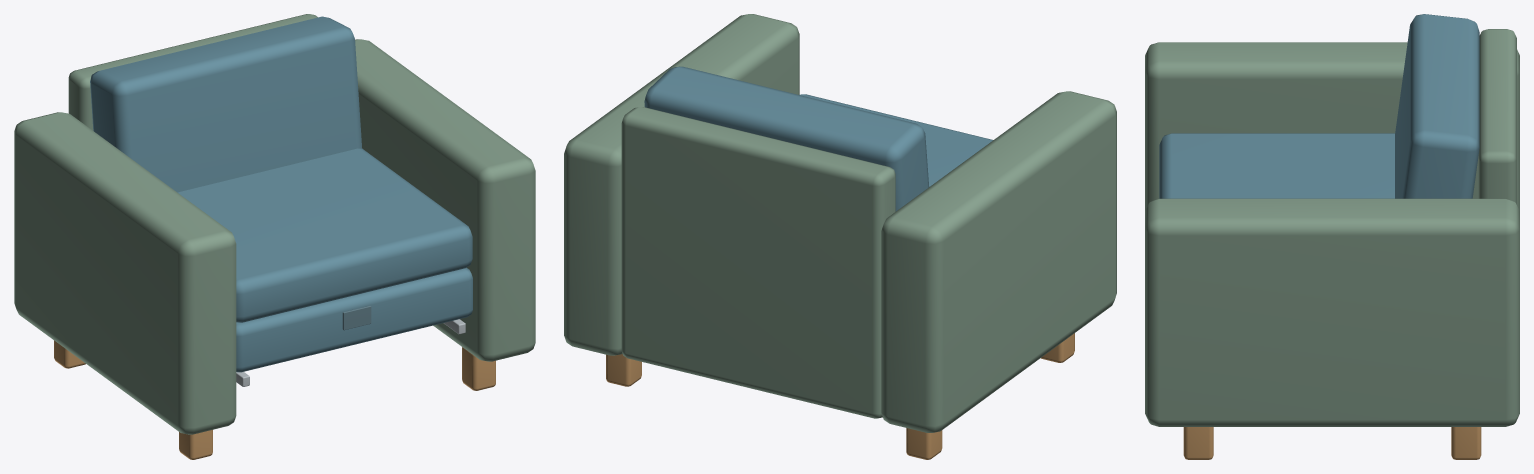
Rendered from chair-sleeper.glb.
The picture shows the model from 3 angles, left to right: view 1: azimuth 30°, elevation 25°; view 2: azimuth 150°, elevation 25°; view 3: azimuth 270°, elevation 25°; orthographic projection. The views are drawn at different scales.
Parts seen in each view (by area): view 1: chair-sleeper authored assembly; view 2: chair-sleeper authored assembly; view 3: chair-sleeper authored assembly.
Boxes of the visible parts, x1,y1,x2,y2 form: chair-sleeper authored assembly: (14, 14, 535, 459); chair-sleeper authored assembly: (564, 14, 1116, 459); chair-sleeper authored assembly: (1145, 14, 1519, 459).
Size of the model in its own units: 1.06 by 0.82 by 0.9.
